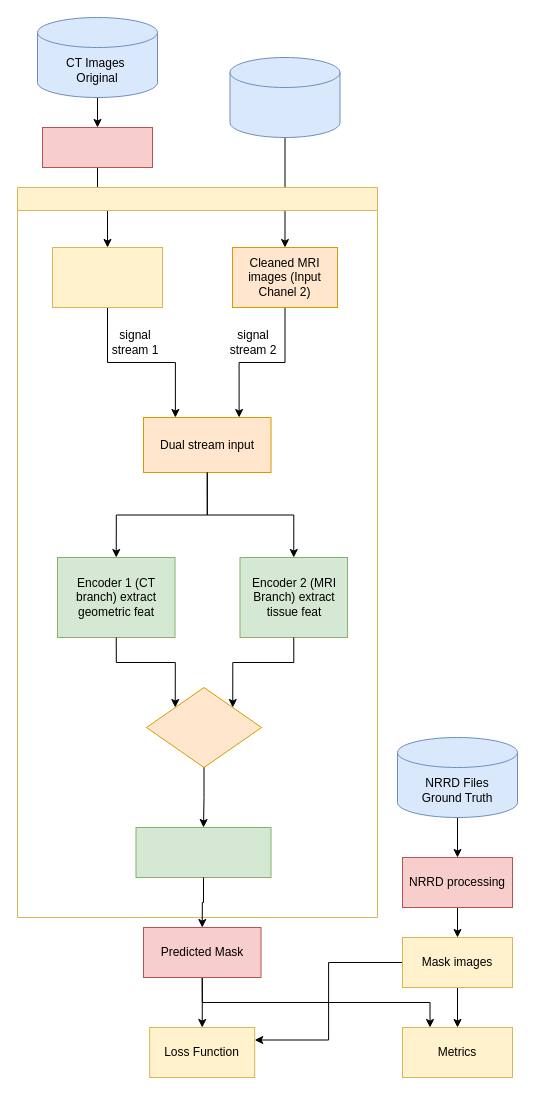
Image size: 535x1095. Some labels were removed from this diagram. The shapes that lost their labels are listed below. From the top down, each one's box as (x1, y1, x2, y2) in pixels, then its label:
(229, 56, 340, 138): MRI Images Original T1
(42, 126, 152, 168): Preprocessing
(52, 246, 162, 308): Cleaned CT images (Input Chanel 2)
(16, 186, 378, 918): Late Fusion Network
(146, 686, 262, 768): Fusion layer
(135, 826, 271, 878): Decoder (Upsampling + Sigmoid)
